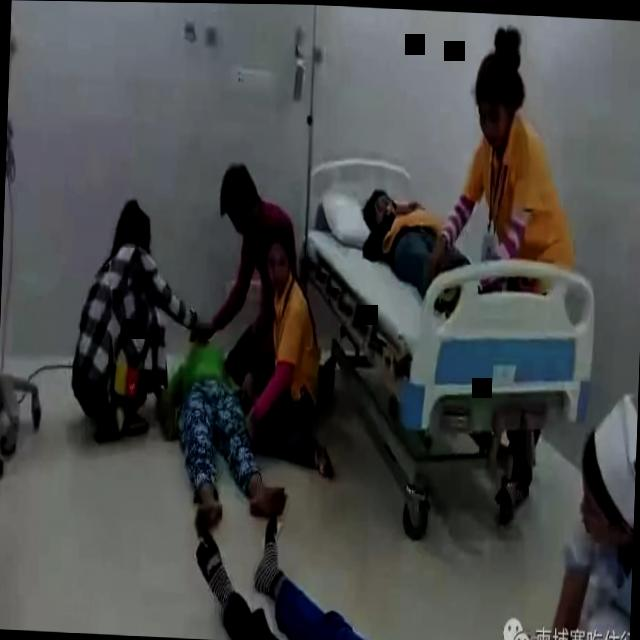Fall-Detected: (164, 477, 552, 640)
